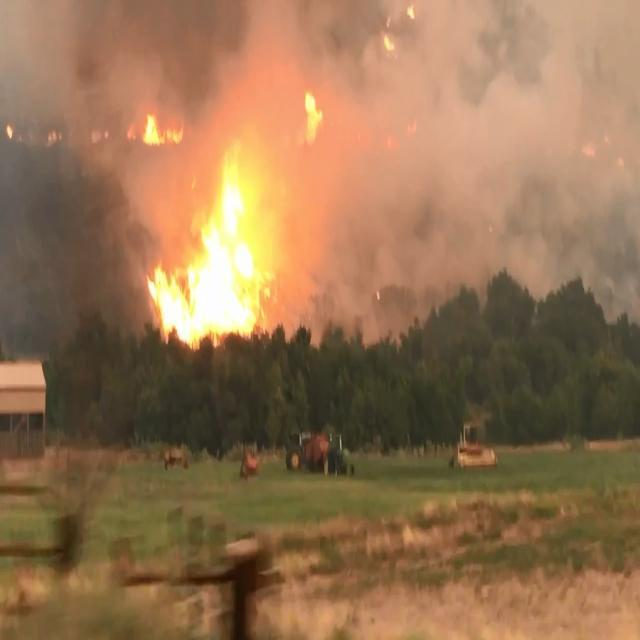Fire: (128, 86, 329, 362)
